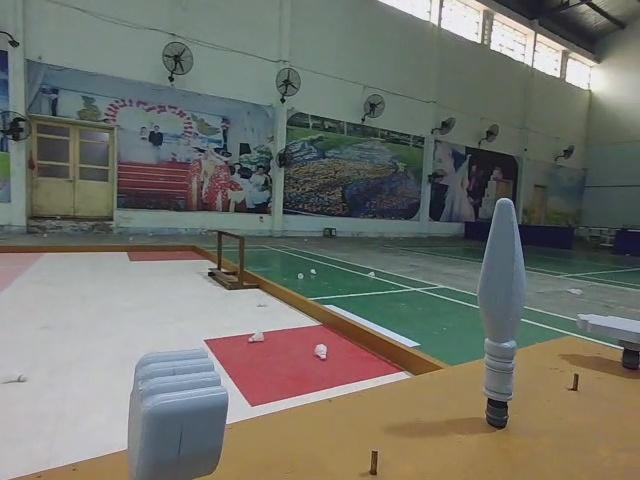Fist: (125, 347, 232, 480)
Hand: (571, 307, 640, 378)
Sph: (472, 200, 532, 436), (472, 202, 531, 437)
